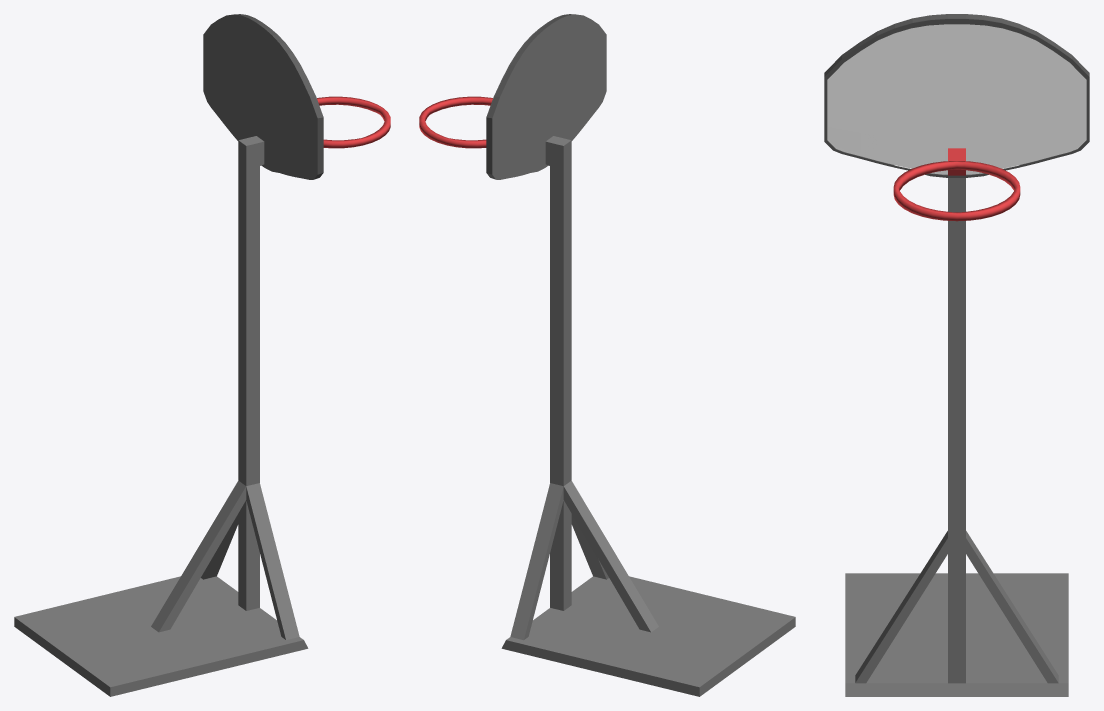
Rendered from Кольцо.fbx.
The picture shows the model from 3 angles, left to right: view 1: azimuth 30°, elevation 25°; view 2: azimuth 150°, elevation 25°; view 3: azimuth 270°, elevation 25°; orthographic projection. The views are drawn at different scales.
Visible parts, largest first — view 1: Plane; view 2: Plane; view 3: Plane.
Part boxes in pixels (x1,y1,x2,y2): Plane: [14, 14, 390, 696]; Plane: [419, 14, 795, 696]; Plane: [824, 14, 1089, 696].
Bounding box in the file's own units: 698 × 1220 × 430.
